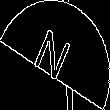N_SW: (32, 23, 78, 87)
